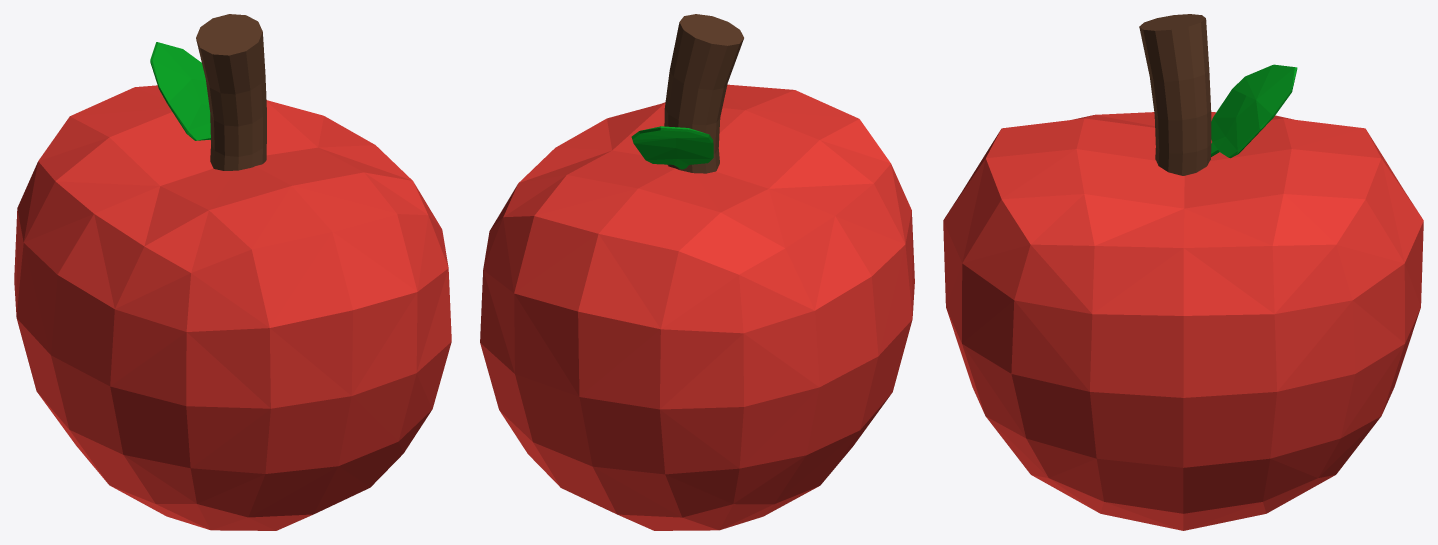
Rendered from Manzana.fbx.
3 views of the same model, side by side, from view 1: azimuth 30°, elevation 25°; view 2: azimuth 150°, elevation 25°; view 3: azimuth 270°, elevation 25° (orthographic).
Visible parts, largest first — view 1: Manzana; view 2: Manzana; view 3: Manzana.
Boxes of the visible parts, bbox=[...] form: Manzana: bbox=[14, 14, 451, 530]; Manzana: bbox=[480, 14, 914, 530]; Manzana: bbox=[943, 14, 1423, 530].
Size of the model in its own units: 172 by 216 by 196.
